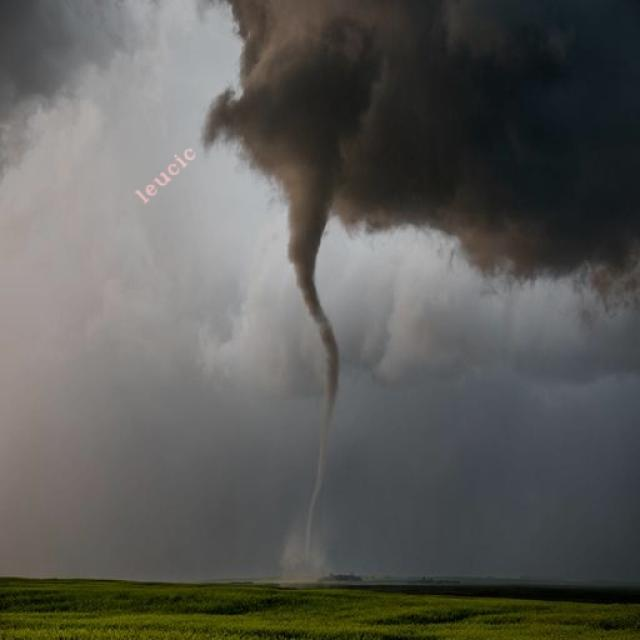watermark: (137, 136, 196, 207)
